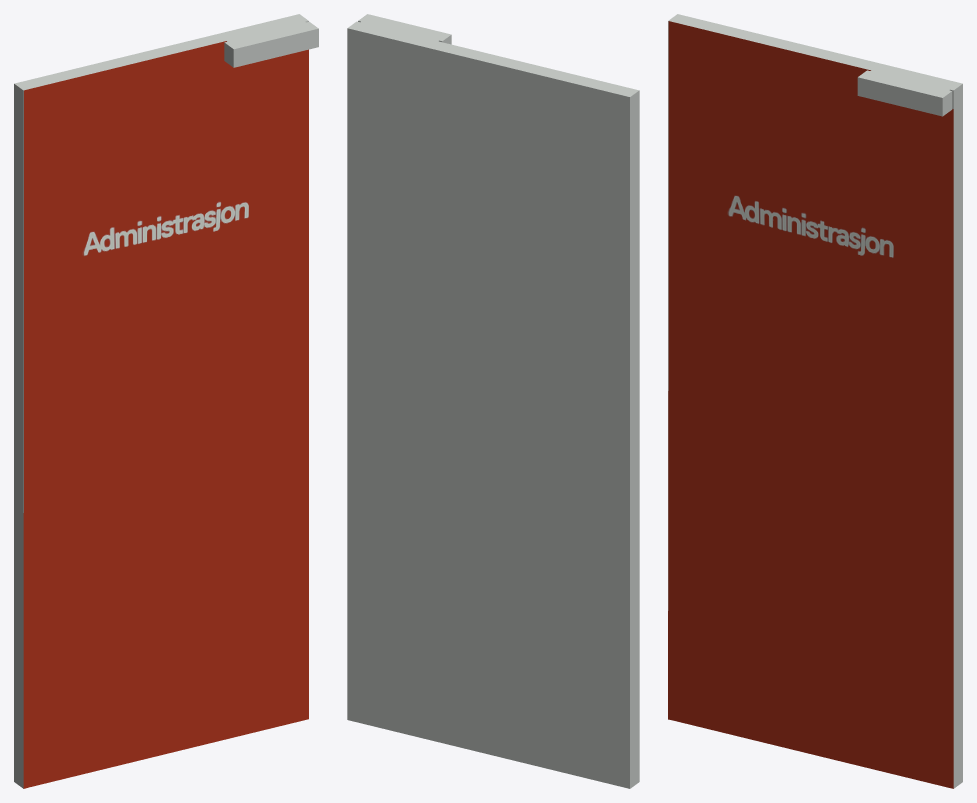
Rendered from AdmDoor.FBX.
3 views of the same model, side by side, from view 1: azimuth 30°, elevation 25°; view 2: azimuth 150°, elevation 25°; view 3: azimuth 330°, elevation 25° (orthographic).
Parts seen in each view (by area): view 1: Box001; view 2: Box001; view 3: Box001.
Boxes of the visible parts, x1,y1,x2,y2 form: Box001: (14,14,318,788); Box001: (347,14,639,788); Box001: (668,14,962,788).
Size of the model in its own units: 223 by 521 by 26.75.
